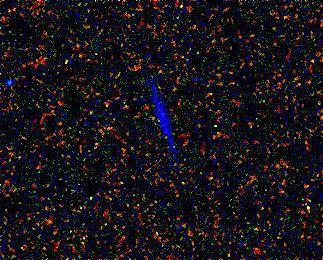star: (140, 100, 170, 130)
